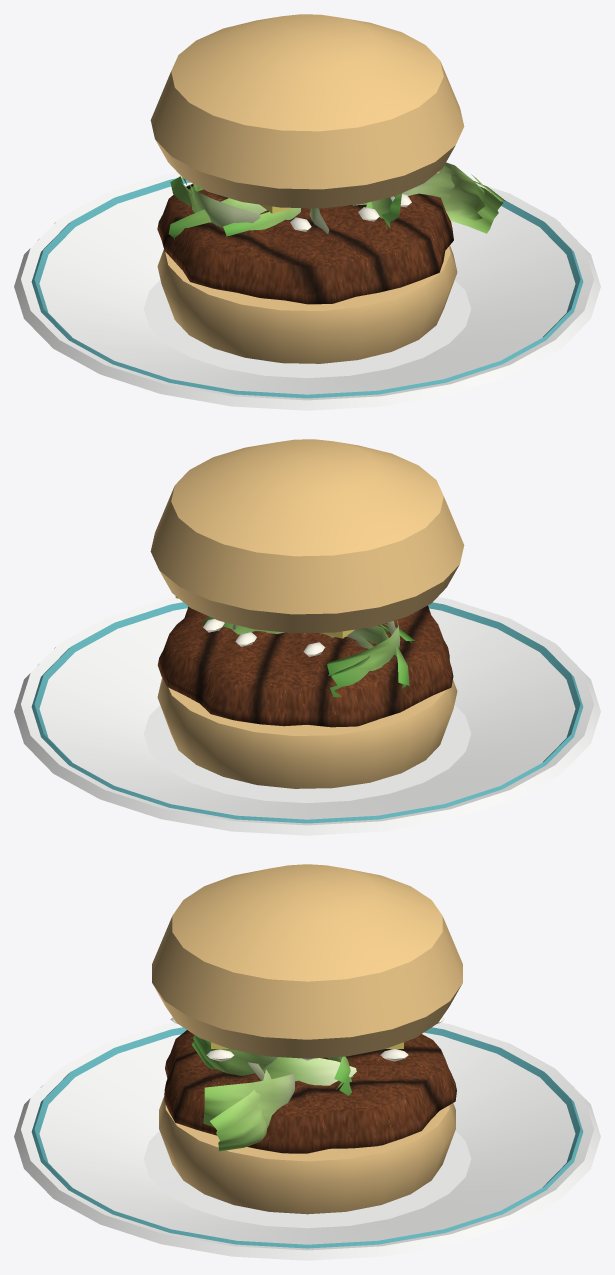
The model's file is kr_dish_deluxe.glb.
3 renders of one model, top to bottom at view 1: azimuth 30°, elevation 25°; view 2: azimuth 150°, elevation 25°; view 3: azimuth 270°, elevation 25°, orthographic.
Visible parts, largest first — view 1: vc_m0_r4, vc_m0_r2, kr_dish_deluxe_f_ground_cooked, vc_m0_r6; view 2: vc_m0_r4, vc_m0_r2, kr_dish_deluxe_f_ground_cooked, vc_m0_r6; view 3: vc_m0_r4, vc_m0_r2, kr_dish_deluxe_f_ground_cooked, vc_m0_r6.
Part boxes in pixels (left/top/right/bottom): vc_m0_r4: left=31, top=14, right=583, bottom=398; vc_m0_r2: left=14, top=172, right=600, bottom=410; kr_dish_deluxe_f_ground_cooked: left=157, top=184, right=453, bottom=304; vc_m0_r6: left=290, top=194, right=411, bottom=231; vc_m0_r4: left=31, top=439, right=583, bottom=823; vc_m0_r2: left=14, top=597, right=600, bottom=835; kr_dish_deluxe_f_ground_cooked: left=157, top=605, right=453, bottom=727; vc_m0_r6: left=203, top=619, right=325, bottom=656; vc_m0_r4: left=31, top=864, right=583, bottom=1248; vc_m0_r2: left=14, top=1022, right=600, bottom=1260; kr_dish_deluxe_f_ground_cooked: left=164, top=1030, right=456, bottom=1153; vc_m0_r6: left=170, top=1017, right=444, bottom=1061.
Size of the model in its own units: 0.43 by 0.238 by 0.43.
4 materials, 1 textured.
